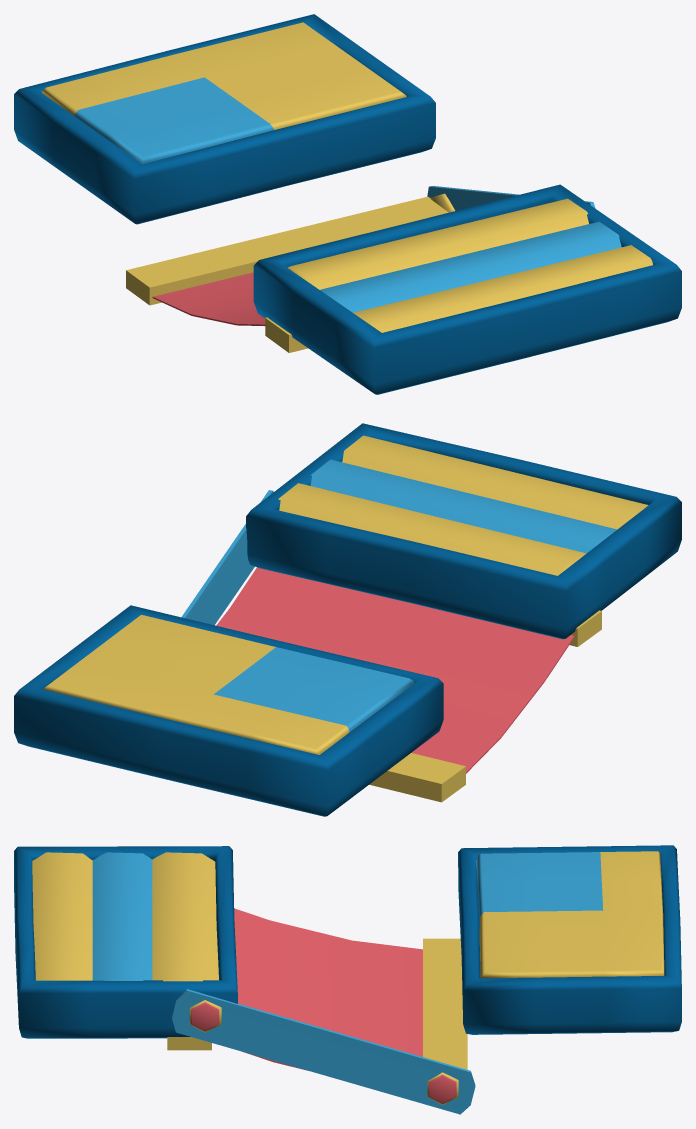
Rendered from plataformaSeguraTuto.fbx.
The picture shows the model from 3 angles, top to bottom: view 1: azimuth 30°, elevation 25°; view 2: azimuth 150°, elevation 25°; view 3: azimuth 270°, elevation 25°; orthographic projection. The views are drawn at different scales.
Visible parts, largest first — view 1: plataformaSemiRigida, plataformaDura, tela, conexionLateral; view 2: plataformaSemiRigida, plataformaDura, tela, conexionLateral; view 3: plataformaDura, plataformaSemiRigida, tela, conexionLateral, enganche1, enganche2.
Boxes of the visible parts, left/top/right/bottom form: plataformaSemiRigida: left=253, top=184, right=681, bottom=394; plataformaDura: left=14, top=14, right=435, bottom=224; tela: left=126, top=196, right=448, bottom=352; conexionLateral: left=427, top=186, right=595, bottom=210; plataformaSemiRigida: left=246, top=423, right=681, bottom=639; plataformaDura: left=14, top=605, right=443, bottom=816; tela: left=216, top=567, right=601, bottom=802; conexionLateral: left=181, top=490, right=273, bottom=625; plataformaDura: left=458, top=845, right=681, bottom=1034; plataformaSemiRigida: left=14, top=846, right=237, bottom=1038; tela: left=167, top=908, right=467, bottom=1070; conexionLateral: left=172, top=989, right=475, bottom=1114; enganche1: left=189, top=1000, right=221, bottom=1032; enganche2: left=427, top=1072, right=458, bottom=1105.
Bounding box in the file's own units: 1353 × 567 × 2598.
